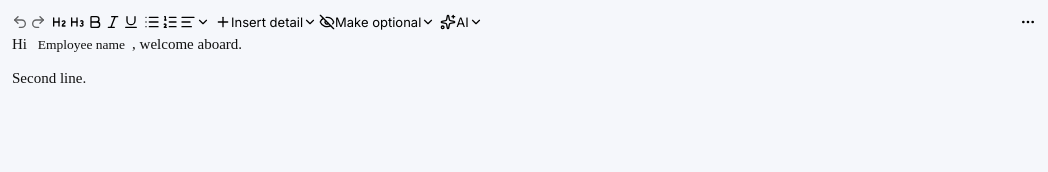
Test: refuses to apply when the letter changed while AI was working
Expected: the text "Employee name" is shown, [32,34,131,56]
What coordinates should you click on to do the following:
click the button "AI"
I would click on:
 (462, 22)
Its box is [440,14,483,30].
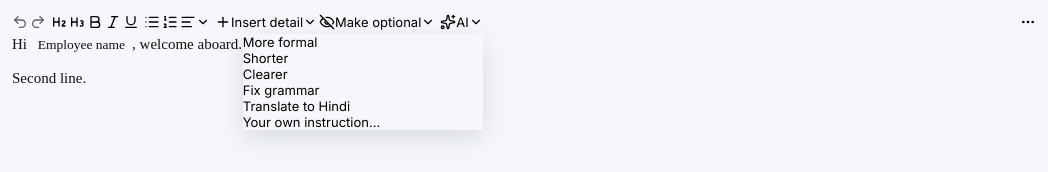
What coordinates should you click on to do the following:
click the menu item "Shorter"
I would click on:
 (363, 58)
Its box is [243,50,483,66].
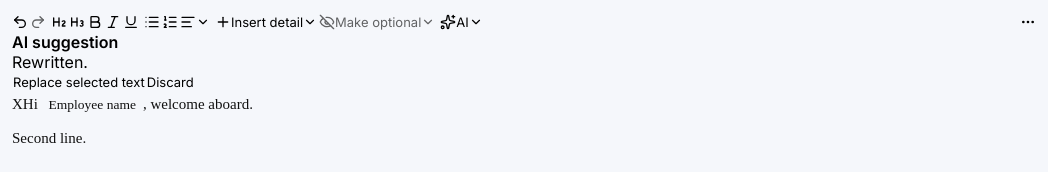
Expected: the text "Rewritten." is shown, [12,52,88,72]
What coordinates should you click on to do the following:
click the button "Replace selected text"
I would click on:
 (79, 82)
Its box is [12,72,146,92].
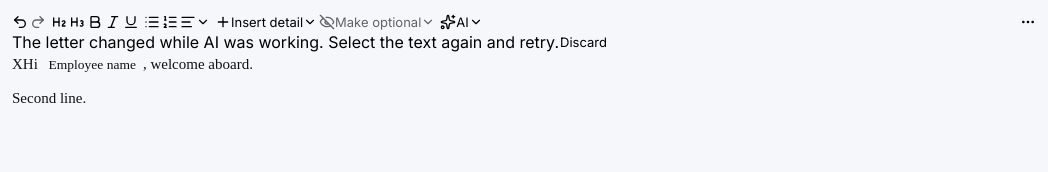
Expected: the text "The letter changed while AI was working. Select the text again and retry." is shown, [12,32,559,52]
